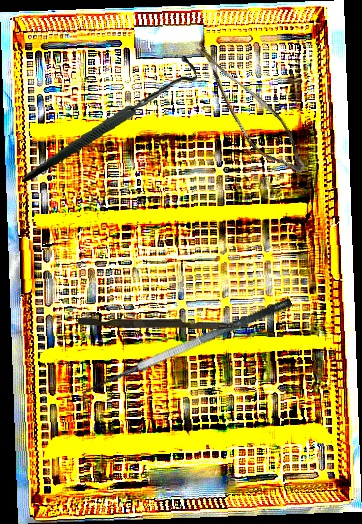Hook Surgical: (12, 55, 205, 182)
Micro Scissor: (167, 40, 326, 181)
Pusher: (78, 318, 249, 329)
Spatula Surgical: (73, 296, 301, 412)
